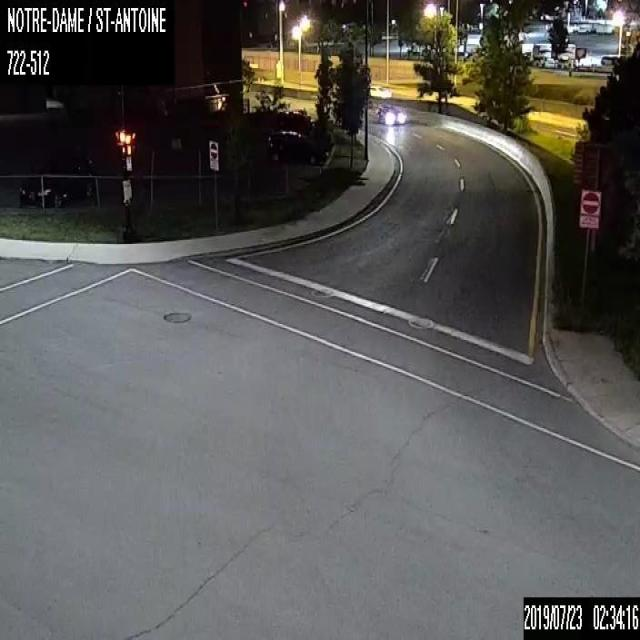vehicle: (20, 155, 94, 209), (265, 129, 328, 163), (378, 104, 406, 123), (369, 80, 392, 97)
